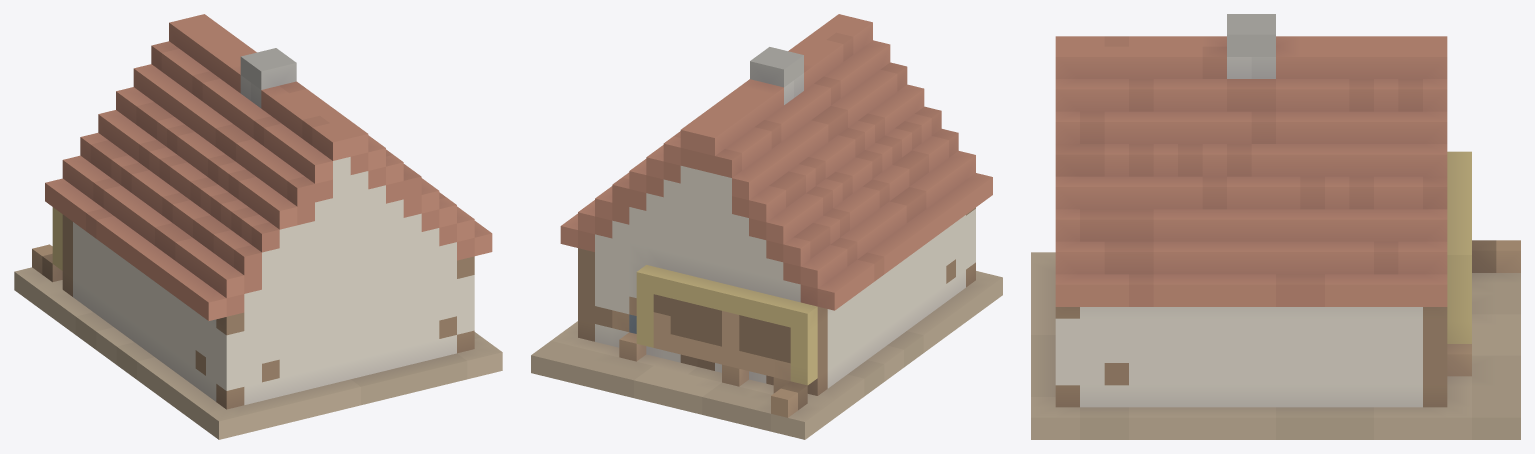
File: meadery.lite.glb
The picture shows the model from 3 angles, left to right: view 1: azimuth 30°, elevation 25°; view 2: azimuth 150°, elevation 25°; view 3: azimuth 270°, elevation 25°; orthographic projection. The views are drawn at different scales.
Visible parts, largest first — view 1: meadery; view 2: meadery; view 3: meadery.
Part boxes in pixels (<box>): meadery: <box>14,14,502,439</box>; meadery: <box>531,14,1002,439</box>; meadery: <box>1031,14,1520,439</box>.
Size of the model in its own units: 4 by 3.75 by 5.
